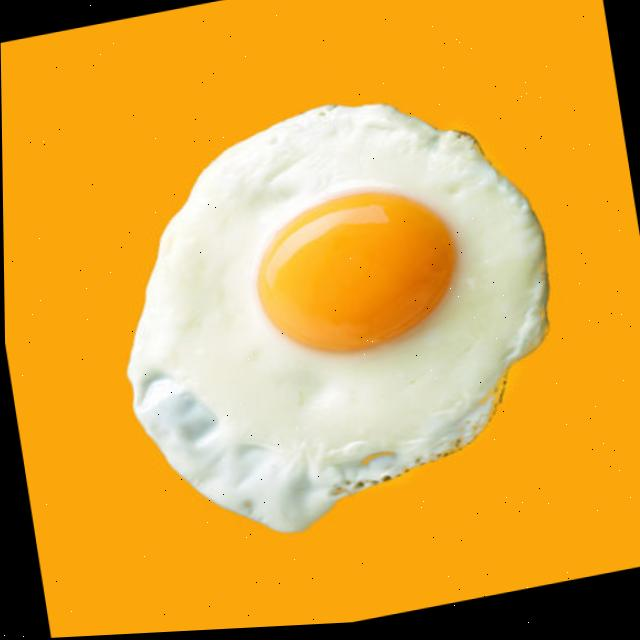Egg: (127, 108, 544, 532)
